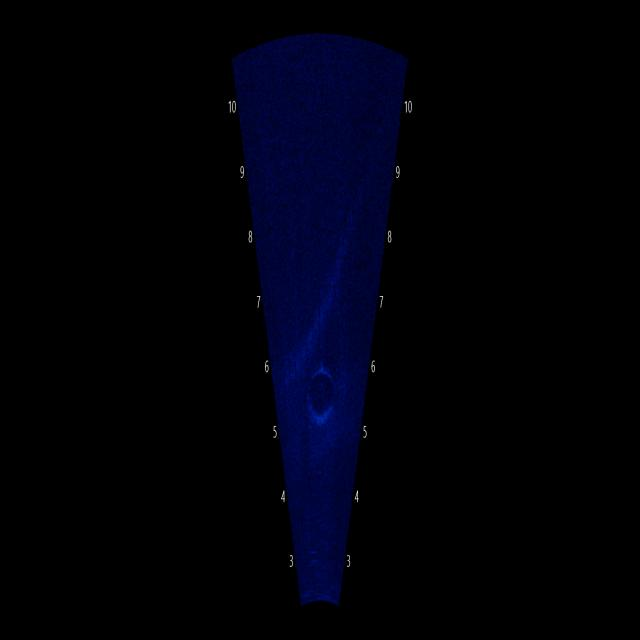circle: (298, 346, 344, 434)
